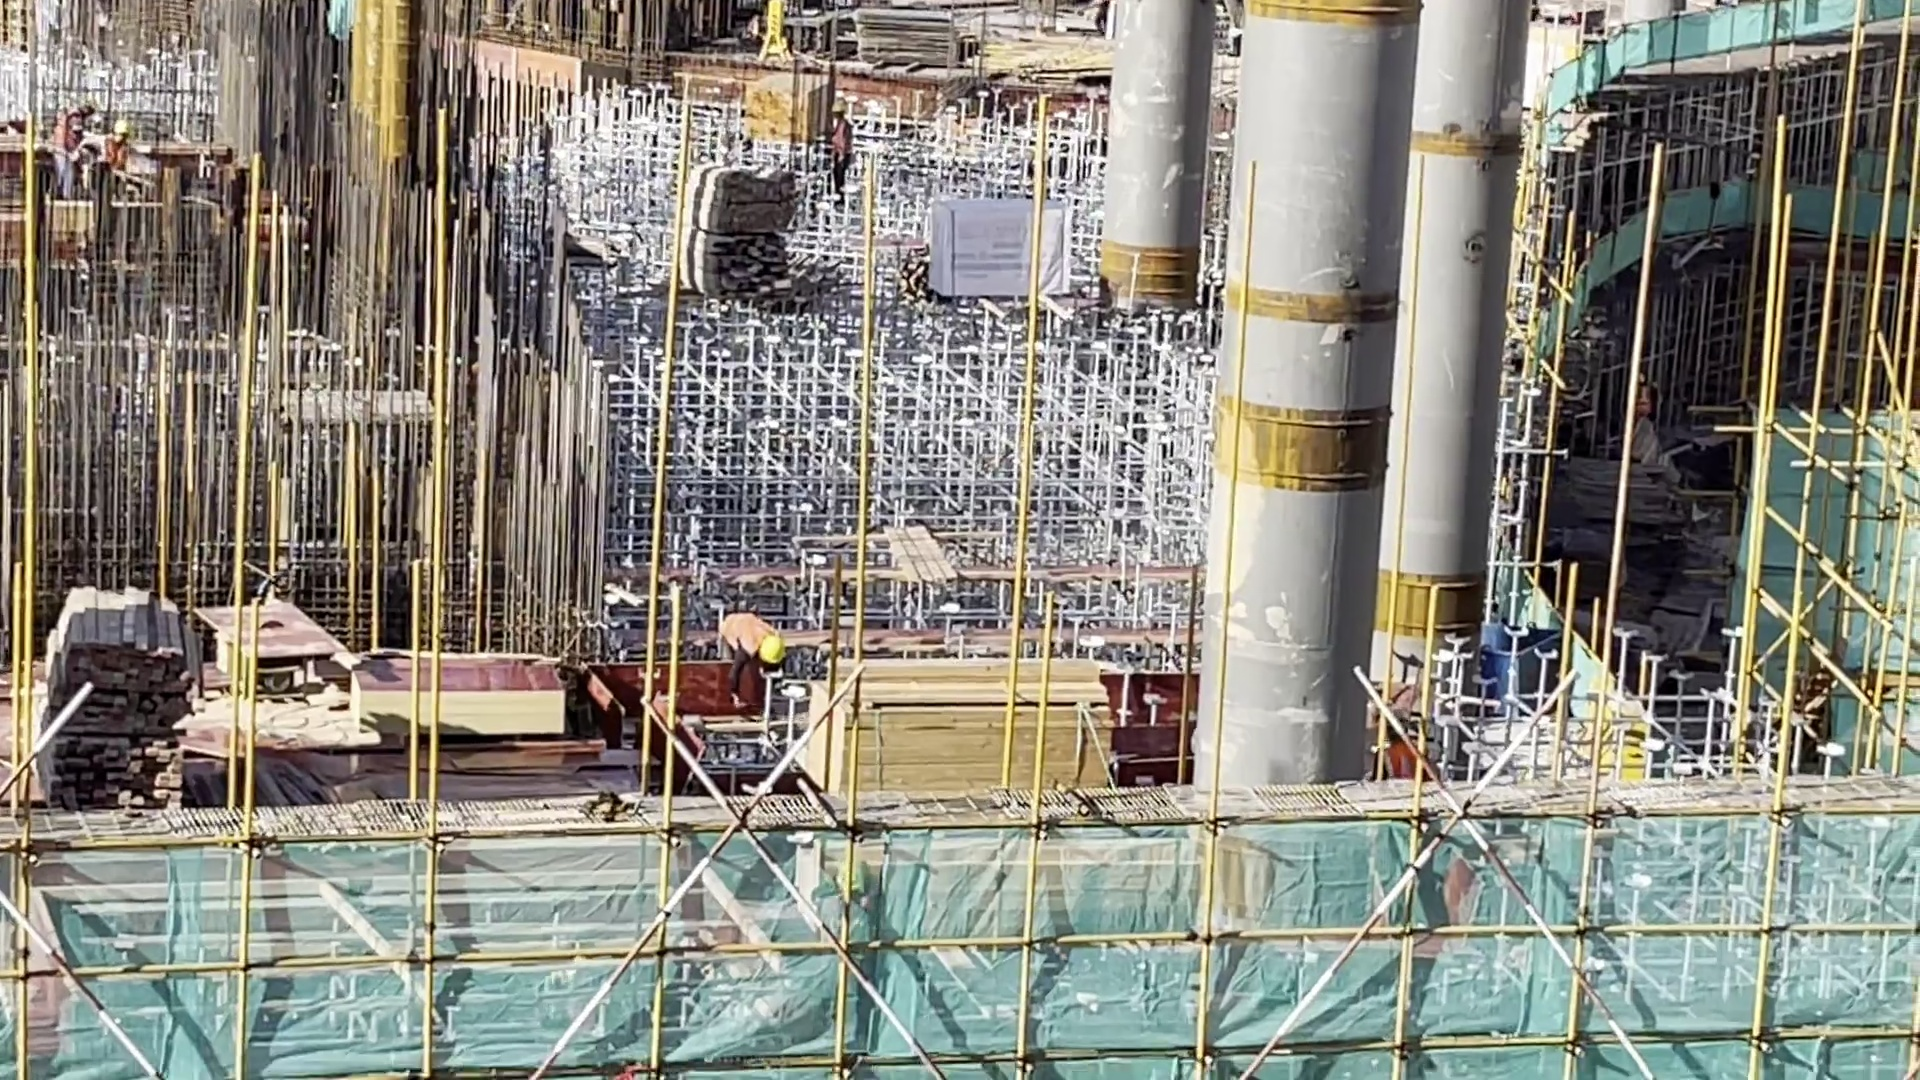helmet: (751, 632, 797, 674)
person: (711, 606, 808, 713)
vest: (721, 608, 762, 658)
